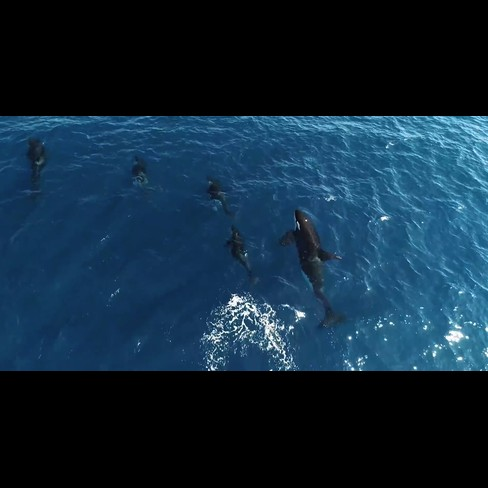orca: (275, 203, 352, 334), (223, 222, 263, 288), (19, 132, 54, 203), (201, 169, 235, 227), (126, 148, 155, 192)
